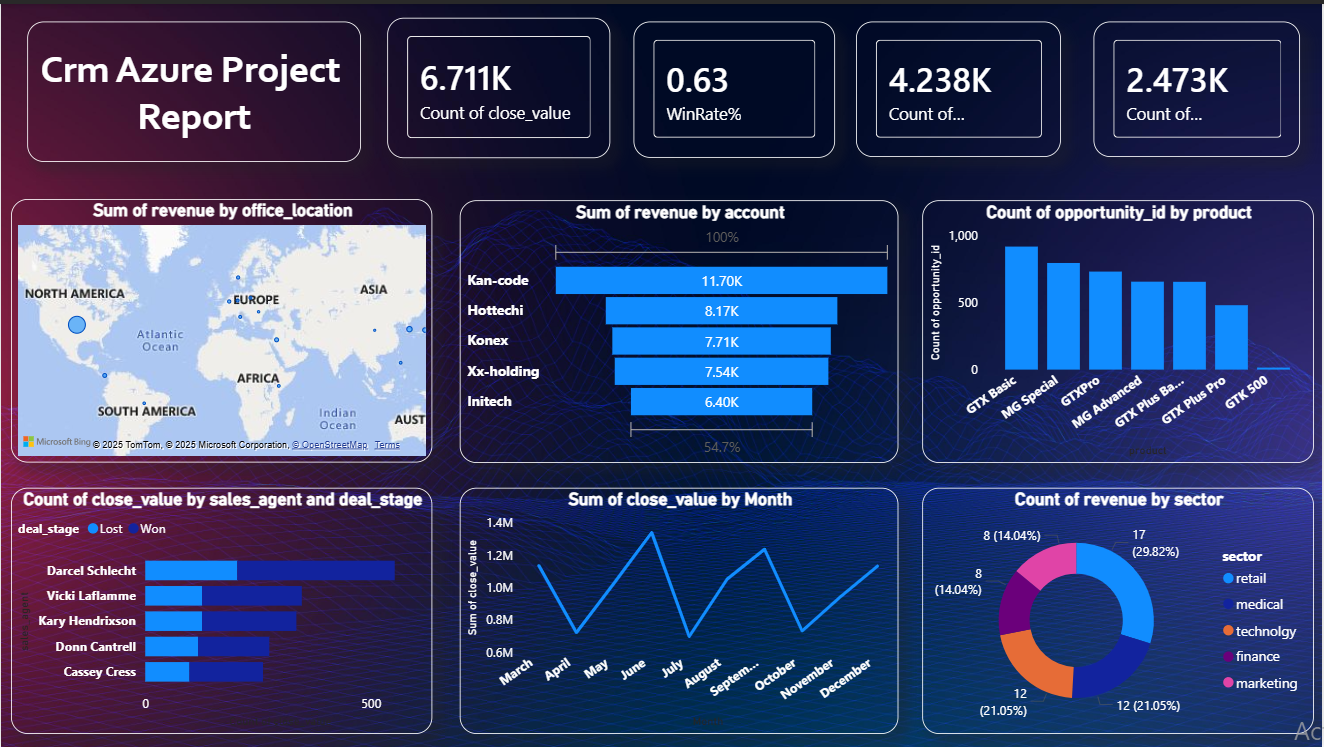

What the dashboard file says about the page in this screenshot:
{"tool":"powerbi","page":{"name":"Page 1","canvas":[1280,720],"ordinal":0},"visuals":[{"type":"barChart","fields":{"Category":["Sales_team.sales_agent"],"Series":["Sales pipeline.deal_stage"],"Y":["Sales pipeline.close_value"]},"box":[9.7,468.5,407.9,238.5],"z":0},{"type":"lineChart","fields":{"Y":["Sales pipeline.close_value"],"Category":["Sales pipeline.close_date.Variation.Date Hierarchy.Month"]},"box":[444.3,468.5,424.9,238.5],"z":1000},{"type":"map","fields":{"Category":["Accounts.office_location"],"Size":["Accounts.revenue"]},"box":[9.7,188.8,407.9,255.4],"z":2000},{"type":"funnel","fields":{"Category":["Accounts.account"],"Y":["Accounts.revenue"]},"box":[444.3,190,424.9,254.2],"z":3000},{"type":"columnChart","fields":{"Category":["Sales pipeline.product"],"Y":["Sales pipeline.opportunity_id"]},"box":[892.1,190,378.9,254.2],"z":4000},{"type":"donutChart","fields":{"Category":["Accounts.sector"],"Y":["Accounts.revenue"]},"box":[892.1,468.5,378.9,238.5],"z":5000},{"type":"cardVisual","fields":{"Data":["Sales pipeline.close_value"]},"box":[374.3,12.9,215.7,135.7],"z":6000},{"type":"cardVisual","fields":{"Data":["Sales pipeline.close_value"]},"box":[828.6,17.1,198.6,131.4],"z":7000},{"type":"cardVisual","fields":{"Data":["Sales pipeline.close_value"]},"box":[1058.6,17.1,200,131.4],"z":8000},{"type":"cardVisual","fields":{"Data":["Sales pipeline.WinRate%"]},"box":[612.5,16.9,194.9,131.9],"z":9000},{"type":"textbox","box":[25.7,17.1,322.9,135.7],"z":10000}]}

Visuals, with their boxes in screenshot pixels (x1, y1, x2, y2), scaled from the page's 1280x720 canvas onto the 1324x747 screenshot:
barChart - Sales_team.sales_agent x Sales pipeline.deal_stage: [10, 486, 432, 734]
lineChart - Sales pipeline.close_value x Sales pipeline.close_date.Variation.Date Hierarchy.Month: [460, 486, 899, 734]
map - Accounts.office_location x Accounts.revenue: [10, 196, 432, 461]
funnel - Accounts.account x Accounts.revenue: [460, 197, 899, 461]
columnChart - Sales pipeline.product x Sales pipeline.opportunity_id: [923, 197, 1315, 461]
donutChart - Accounts.sector x Accounts.revenue: [923, 486, 1315, 734]
cardVisual - Sales pipeline.close_value: [387, 13, 610, 154]
cardVisual - Sales pipeline.close_value: [857, 18, 1063, 154]
cardVisual - Sales pipeline.close_value: [1095, 18, 1302, 154]
cardVisual - Sales pipeline.WinRate%: [634, 18, 835, 154]
textbox: [27, 18, 361, 159]
